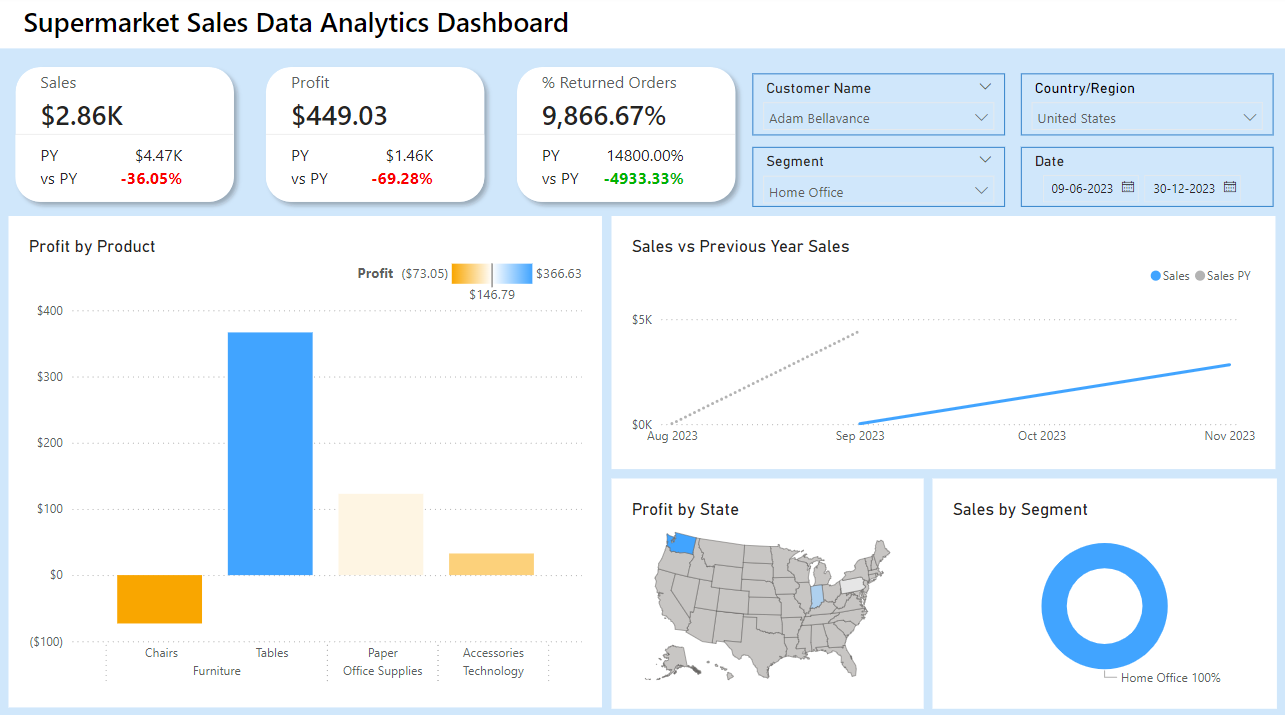

Layout of this report page (visuals, bound fields, positions):
{"tool":"powerbi","page":{"name":"Page 1","canvas":[1280,720],"ordinal":0},"visuals":[{"type":"cardVisual","fields":{"Data":["Key Measure.Sales","Key Measure.Profit","Key Measure.% Returned Orders"]},"box":[0,55.4,750.2,169],"z":0},{"type":"lineChart","title":"Sales vs Previous Year Sales","fields":{"Y":["Key Measure.Sales","Key Measure.Sales PY"],"Category":["Date Table.Start of month"]},"box":[609.6,220.3,659.6,251.4],"z":1000},{"type":"columnChart","title":"Profit by Product","fields":{"Category":["Orders.Category","Orders.Sub-Category"],"Y":["Key Measure.Profit"]},"box":[10.8,220.3,589.3,488],"z":2000},{"type":"shapeMap","title":"Profit by State","fields":{"Value":["Key Measure.Profit"],"Category":["Orders.State/Province"]},"box":[609.6,480.4,310,228.4],"z":3000},{"type":"donutChart","title":"Sales by Segment","fields":{"Category":["Orders.Segment"],"Y":["Key Measure.Sales"]},"box":[927.7,480.4,341.8,228.4],"z":4000},{"type":"slicer","fields":{"Values":["Orders.Customer Name"]},"box":[750,78.8,250.7,61.6],"z":5000},{"type":"slicer","title":"Date","fields":{"Values":["Date Table.Date"]},"box":[1016.1,151.8,250.7,59.4],"z":6000},{"type":"slicer","fields":{"Values":["Orders.Country/Region"]},"box":[1016.1,78.8,250.7,61.6],"z":7000},{"type":"slicer","fields":{"Values":["Orders.Segment"]},"box":[750,151.8,250.7,59.4],"z":8000},{"type":"shape","box":[0,0,1280,54.1],"z":9000}]}

Visuals, with their boxes in screenshot pixels (x1, y1, x2, y2), scaled from the page's 1280x720 canvas onto the 1285x715 screenshot:
cardVisual - Key Measure.Sales x Key Measure.Profit: l=0, t=55, r=753, b=223
"Sales vs Previous Year Sales" lineChart: l=612, t=219, r=1274, b=468
"Profit by Product" columnChart: l=11, t=219, r=602, b=703
"Profit by State" shapeMap: l=612, t=477, r=923, b=704
"Sales by Segment" donutChart: l=931, t=477, r=1274, b=704
slicer - Orders.Customer Name: l=753, t=78, r=1005, b=139
"Date" slicer: l=1020, t=151, r=1272, b=210
slicer - Orders.Country/Region: l=1020, t=78, r=1272, b=139
slicer - Orders.Segment: l=753, t=151, r=1005, b=210
shape: l=0, t=0, r=1284, b=54
